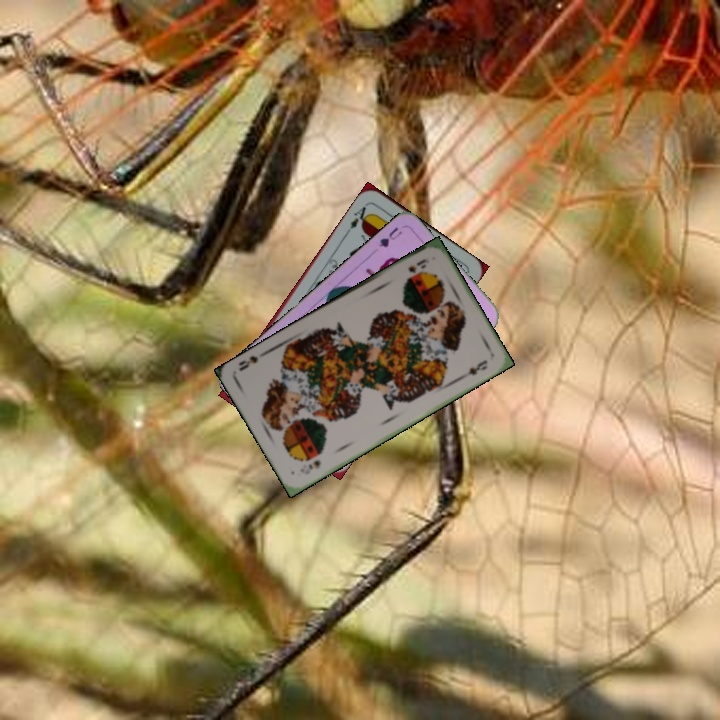EA: (343, 199, 373, 235)
GU: (374, 223, 405, 250)
SO: (402, 255, 429, 282), (296, 456, 324, 475)
